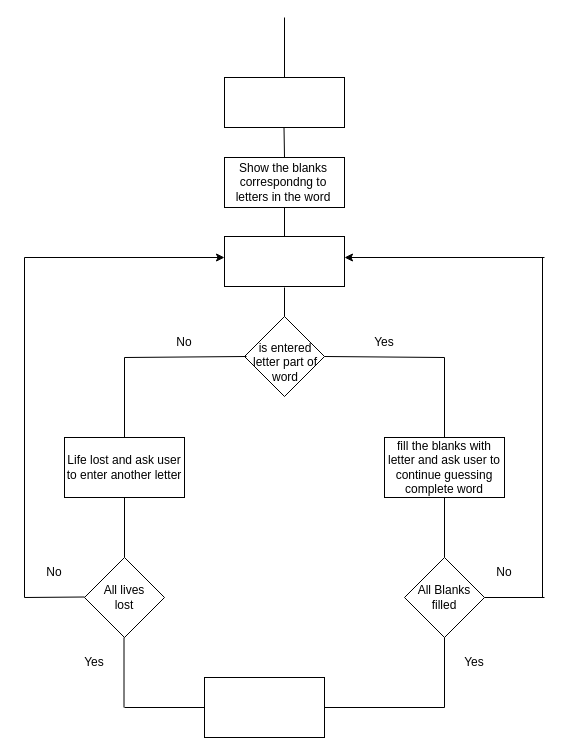
Some shapes in this 570 by 755 pixel diagram are drawn without their labels. Each missing label, with the centre of its shape:
"Ask user to guess the word and enter a letter" goes at pixel 284 261.
"Generate a random word" goes at pixel 284 102.
"Print Success / Failure Message" goes at pixel 264 707.
